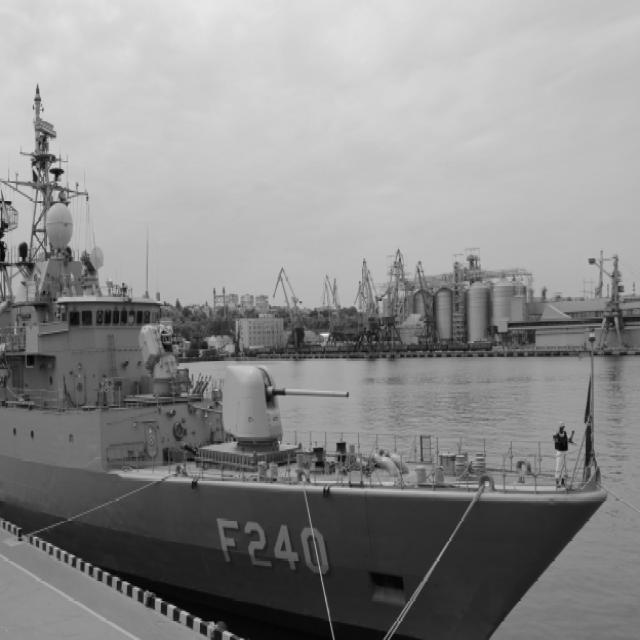Fragata: (1, 73, 613, 640)
